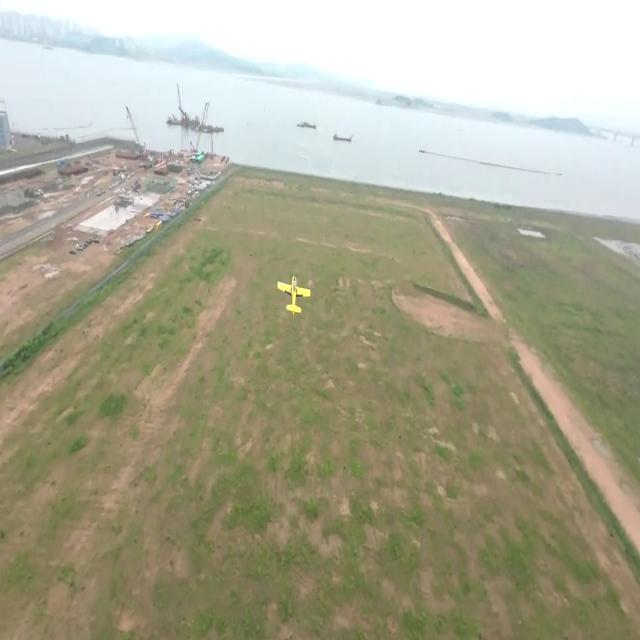iha: (270, 268, 317, 320)
